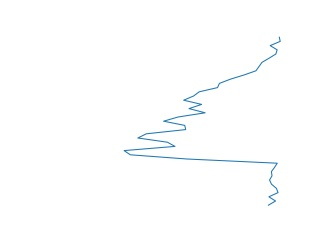proximalDeepseaFan: (120, 35, 287, 208)
